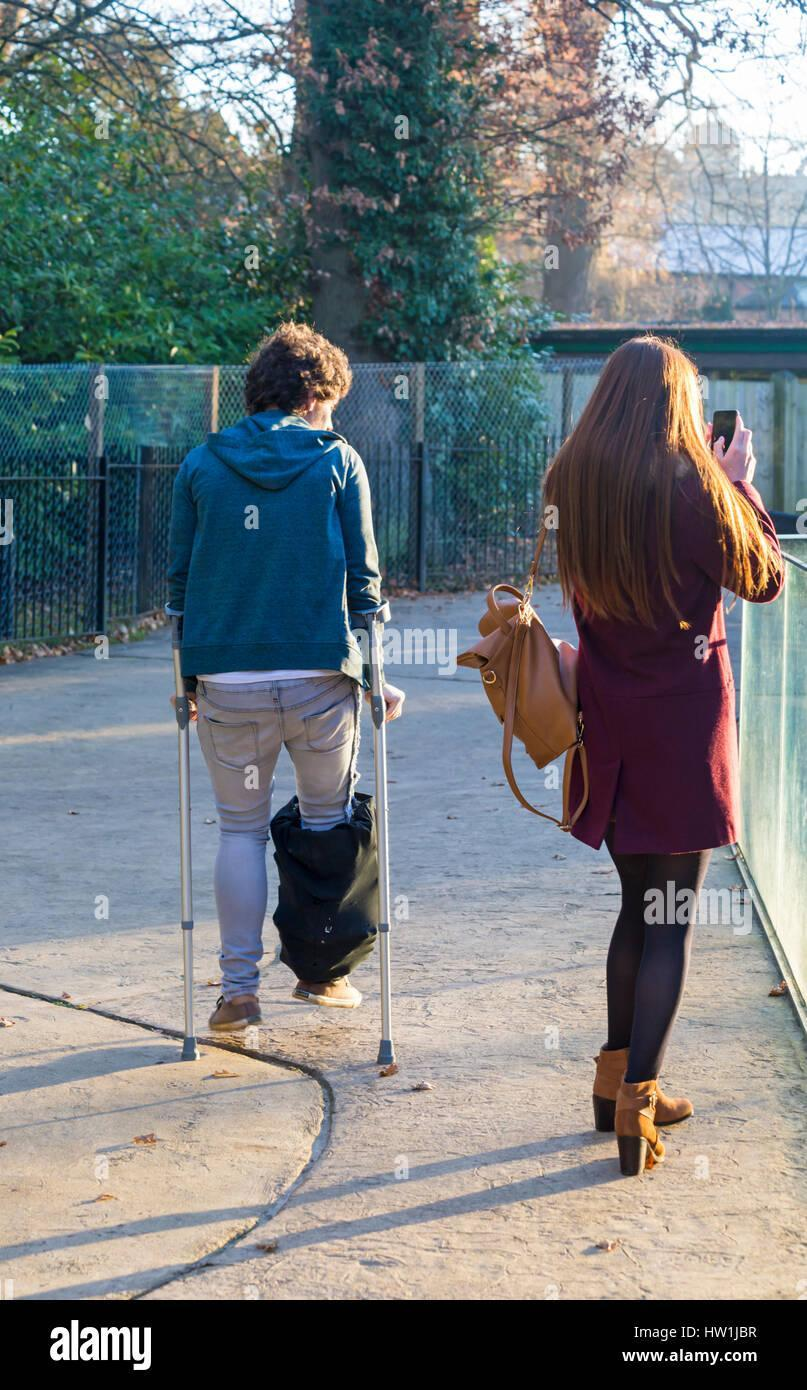crutches: (138, 290, 410, 1090)
